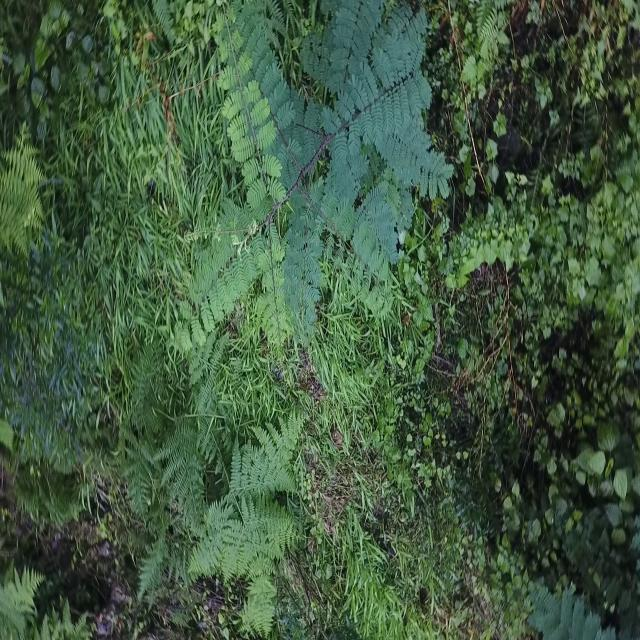Mysore-Thorn-Weed: (187, 0, 448, 369), (526, 575, 610, 640)
